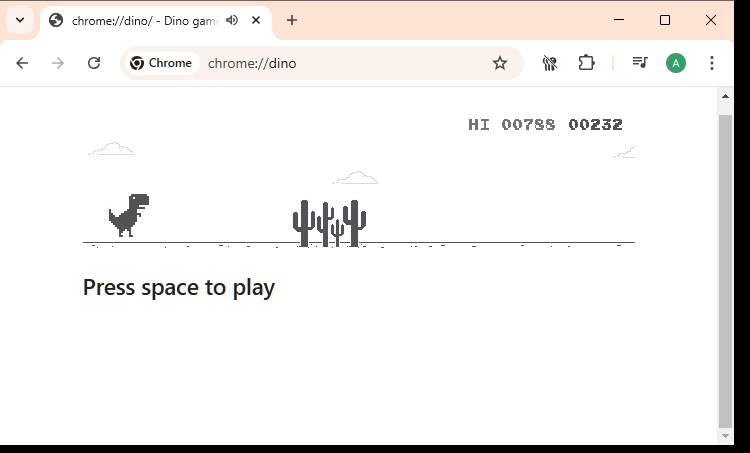cactus: (343, 200, 367, 248), (293, 200, 315, 247), (317, 201, 334, 248), (331, 219, 344, 248)
dino: (108, 193, 150, 239)
